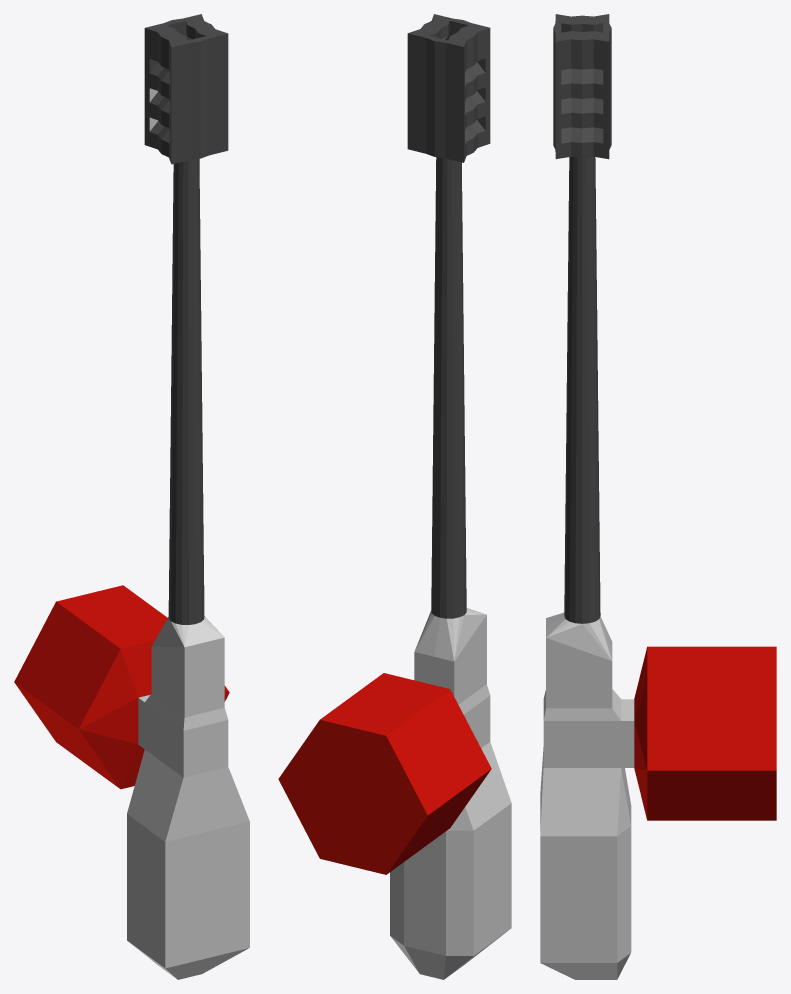
File: AutoCannon.fbx
3 views of the same model, side by side, from view 1: azimuth 30°, elevation 25°; view 2: azimuth 150°, elevation 25°; view 3: azimuth 270°, elevation 25° (orthographic).
Visible parts, largest first — view 1: AutoCannon; view 2: AutoCannon; view 3: AutoCannon.
Part boxes in pixels (<box>): AutoCannon: <box>14,14,249,979</box>; AutoCannon: <box>278,14,511,979</box>; AutoCannon: <box>540,14,776,979</box>.
Size of the model in its own units: 67.5 by 403 by 91.26.
